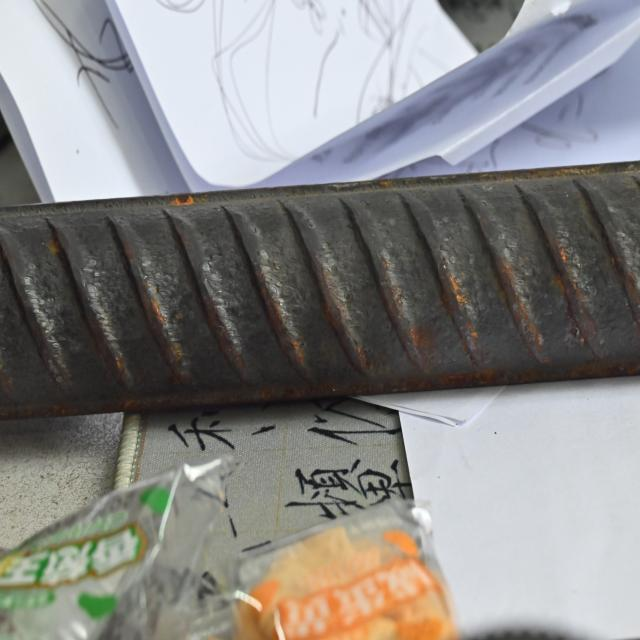ribbed bar: (3, 151, 640, 422)
